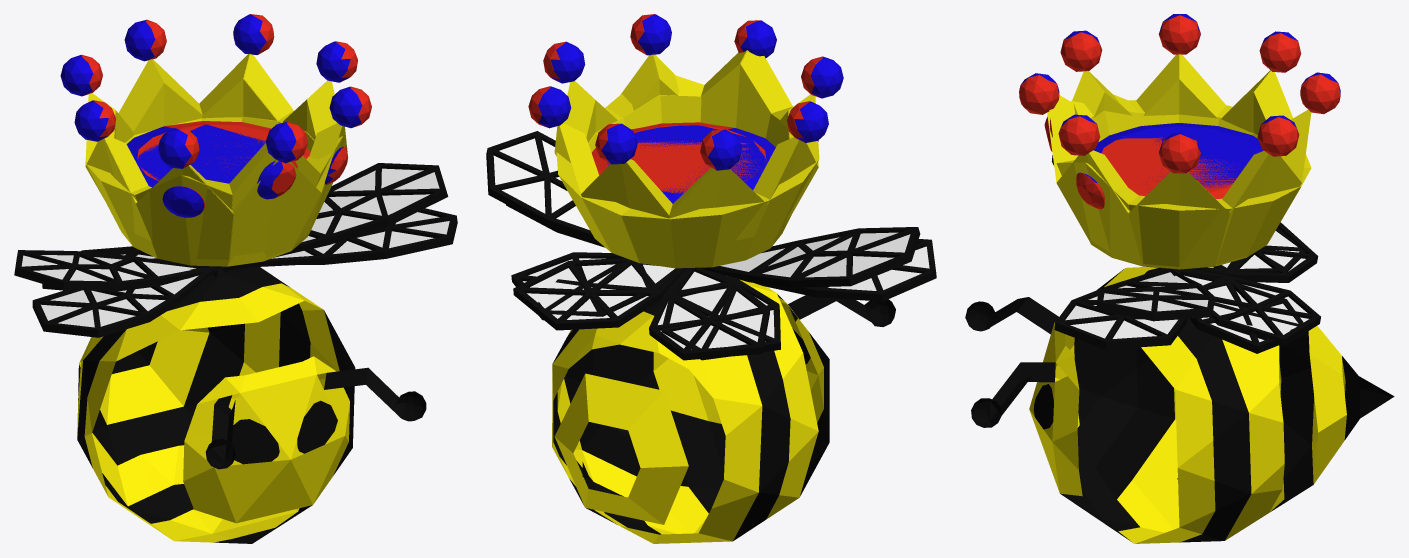
The model's file is Bee.glb.
3 views of the same model, side by side, from view 1: azimuth 30°, elevation 25°; view 2: azimuth 150°, elevation 25°; view 3: azimuth 270°, elevation 25° (orthographic).
Parts seen in each view (by area): view 1: Bee_F1, Blue_Crown, Bee_F0, Red_Crown, Blue_Tiara, Red_Tiara; view 2: Bee_F1, Blue_Crown, Bee_F0, Blue_Tiara, Red_Crown, Red_Tiara; view 3: Bee_F1, Red_Crown, Red_Tiara, Bee_F0, Blue_Crown, Blue_Tiara.
Part boxes in pixels (left/top/right/bottom): Bee_F1: left=14, top=163, right=448, bottom=543; Blue_Crown: left=60, top=14, right=362, bottom=262; Bee_F0: left=32, top=208, right=457, bottom=337; Red_Crown: left=81, top=14, right=371, bottom=262; Blue_Tiara: left=85, top=111, right=343, bottom=266; Red_Tiara: left=86, top=111, right=348, bottom=265; Bee_F1: left=486, top=131, right=920, bottom=543; Blue_Crown: left=538, top=14, right=843, bottom=240; Bee_F0: left=506, top=204, right=936, bottom=360; Blue_Tiara: left=557, top=50, right=819, bottom=268; Red_Crown: left=528, top=14, right=822, bottom=217; Red_Tiara: left=556, top=50, right=818, bottom=262; Bee_F1: left=965, top=227, right=1394, bottom=543; Red_Crown: left=1019, top=15, right=1340, bottom=268; Red_Tiara: left=1044, top=95, right=1311, bottom=269; Bee_F0: left=1052, top=155, right=1320, bottom=349; Blue_Crown: left=1020, top=14, right=1340, bottom=212; Blue_Tiara: left=1045, top=94, right=1310, bottom=210.
Bounding box in the file's own units: 15.1 × 15.64 × 13.14.
